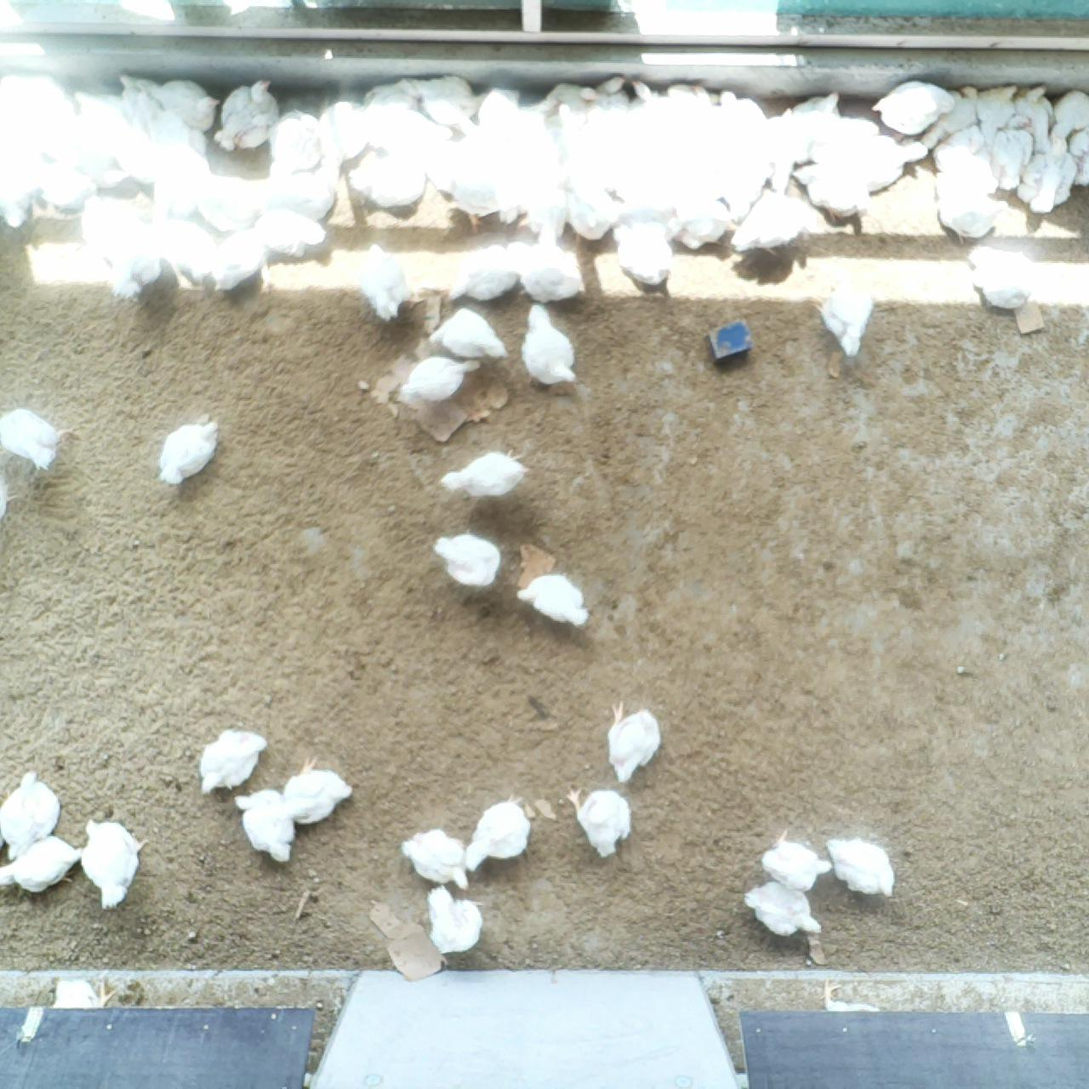chicken: (74, 815, 155, 911), (461, 787, 537, 881), (805, 133, 932, 188), (513, 217, 590, 305), (817, 268, 882, 365), (278, 753, 359, 828), (152, 132, 217, 225), (734, 188, 824, 255), (524, 76, 600, 155), (41, 122, 128, 190), (787, 157, 878, 222), (562, 783, 637, 861), (418, 882, 493, 960), (196, 721, 269, 801), (230, 785, 299, 868), (214, 72, 285, 152), (366, 97, 457, 159), (439, 441, 533, 501), (929, 170, 1005, 244), (0, 833, 87, 897), (310, 93, 371, 183), (868, 76, 961, 135), (1012, 135, 1078, 218), (742, 876, 825, 942), (965, 244, 1040, 317), (0, 765, 60, 856), (355, 239, 419, 324), (440, 237, 520, 305), (428, 298, 509, 365), (517, 302, 580, 388), (611, 208, 673, 294), (604, 698, 663, 788), (105, 217, 168, 301), (515, 570, 598, 633), (757, 828, 835, 895), (427, 527, 507, 592), (446, 163, 522, 231), (501, 105, 565, 184), (154, 418, 226, 488), (258, 105, 326, 179), (823, 831, 899, 897), (0, 398, 71, 468), (576, 67, 634, 152), (251, 206, 333, 266), (703, 87, 774, 156), (77, 191, 151, 257), (917, 80, 985, 151), (146, 73, 219, 139), (620, 72, 681, 150), (400, 826, 471, 893), (0, 70, 76, 132), (795, 107, 879, 163), (349, 148, 426, 209), (196, 171, 267, 237), (670, 184, 737, 253), (207, 223, 269, 297), (657, 77, 719, 150), (704, 148, 773, 213), (396, 352, 482, 404), (160, 211, 219, 285), (27, 150, 96, 213), (0, 137, 47, 228), (770, 88, 841, 147), (985, 115, 1038, 194), (559, 172, 619, 241), (925, 122, 998, 178), (972, 75, 1023, 155), (420, 131, 487, 191), (260, 170, 338, 221), (763, 112, 814, 190), (1006, 82, 1058, 158), (108, 121, 170, 184), (144, 105, 211, 163), (468, 80, 529, 142), (114, 72, 173, 135), (416, 69, 478, 127), (64, 82, 128, 138), (514, 178, 570, 242), (1043, 84, 1089, 148), (361, 75, 426, 115), (1068, 122, 1089, 190)
